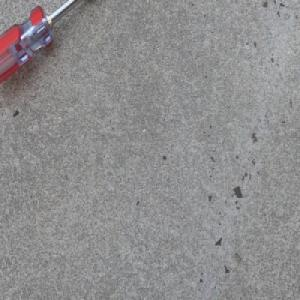Screwdriver: (0, 0, 85, 87)
